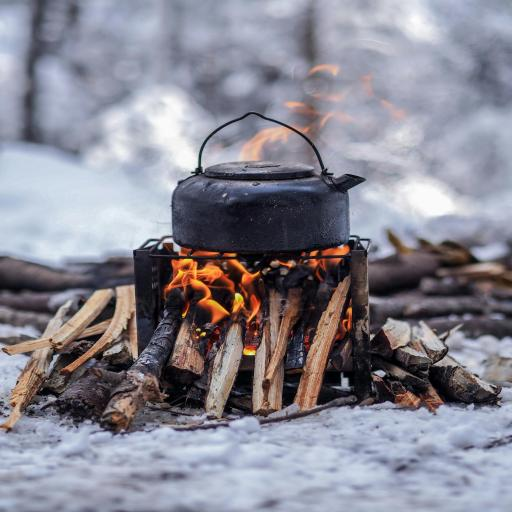campfire: (81, 168, 422, 406)
